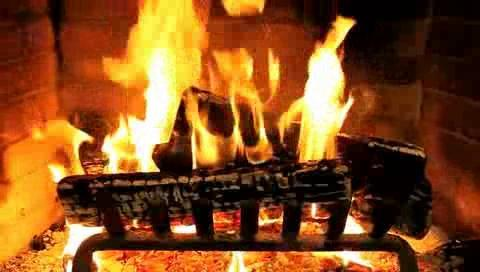fire: (95, 1, 349, 167)
